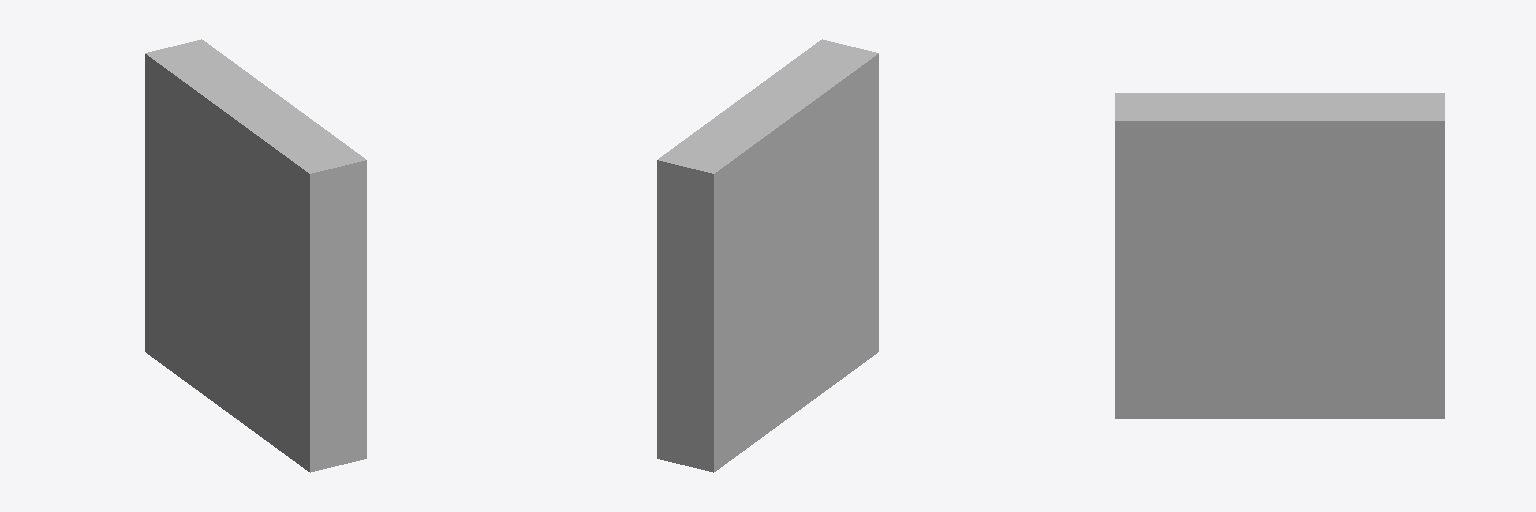
Rendered from brickwall.obj.
The picture shows the model from 3 angles: view 1: azimuth 30°, elevation 25°; view 2: azimuth 150°, elevation 25°; view 3: azimuth 270°, elevation 25°; orthographic projection.
Visible parts, largest first — view 1: Cube; view 2: Cube; view 3: Cube.
Boxes of the visible parts, <box> form: Cube: <box>145,39,366,472</box>; Cube: <box>657,39,878,472</box>; Cube: <box>1115,93,1444,418</box>.
Size of the model in its own units: 2 by 9.96 by 9.98.